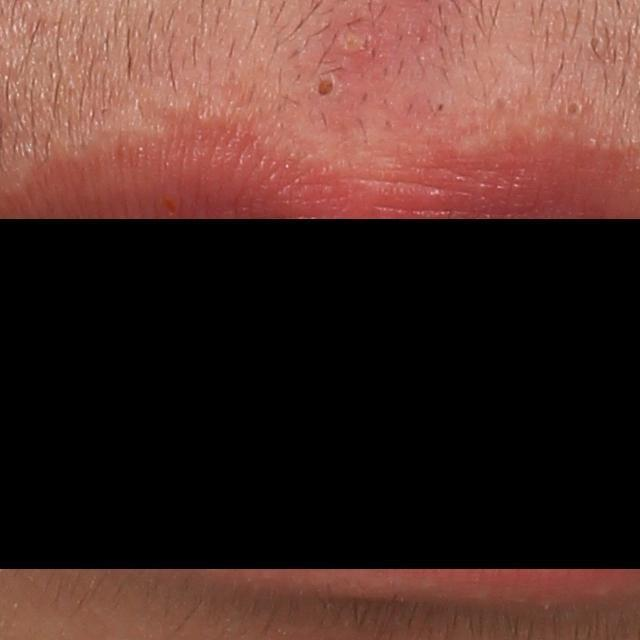comedo: (305, 66, 347, 107), (560, 91, 591, 122), (576, 33, 604, 57)
